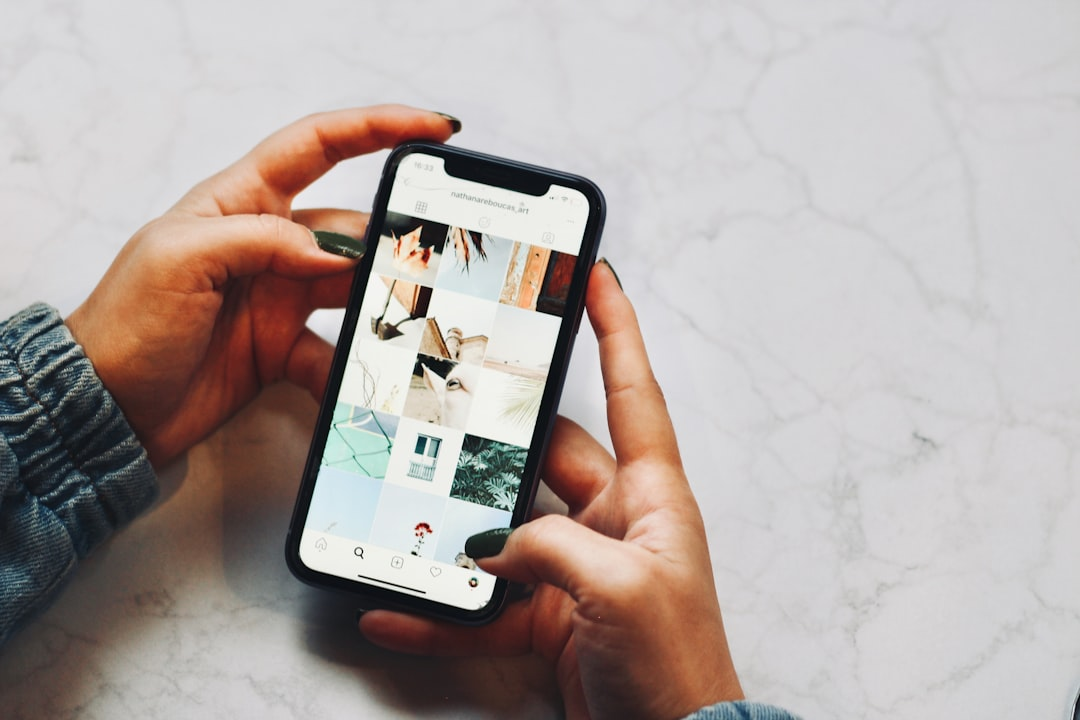phone: (283, 140, 606, 625)
